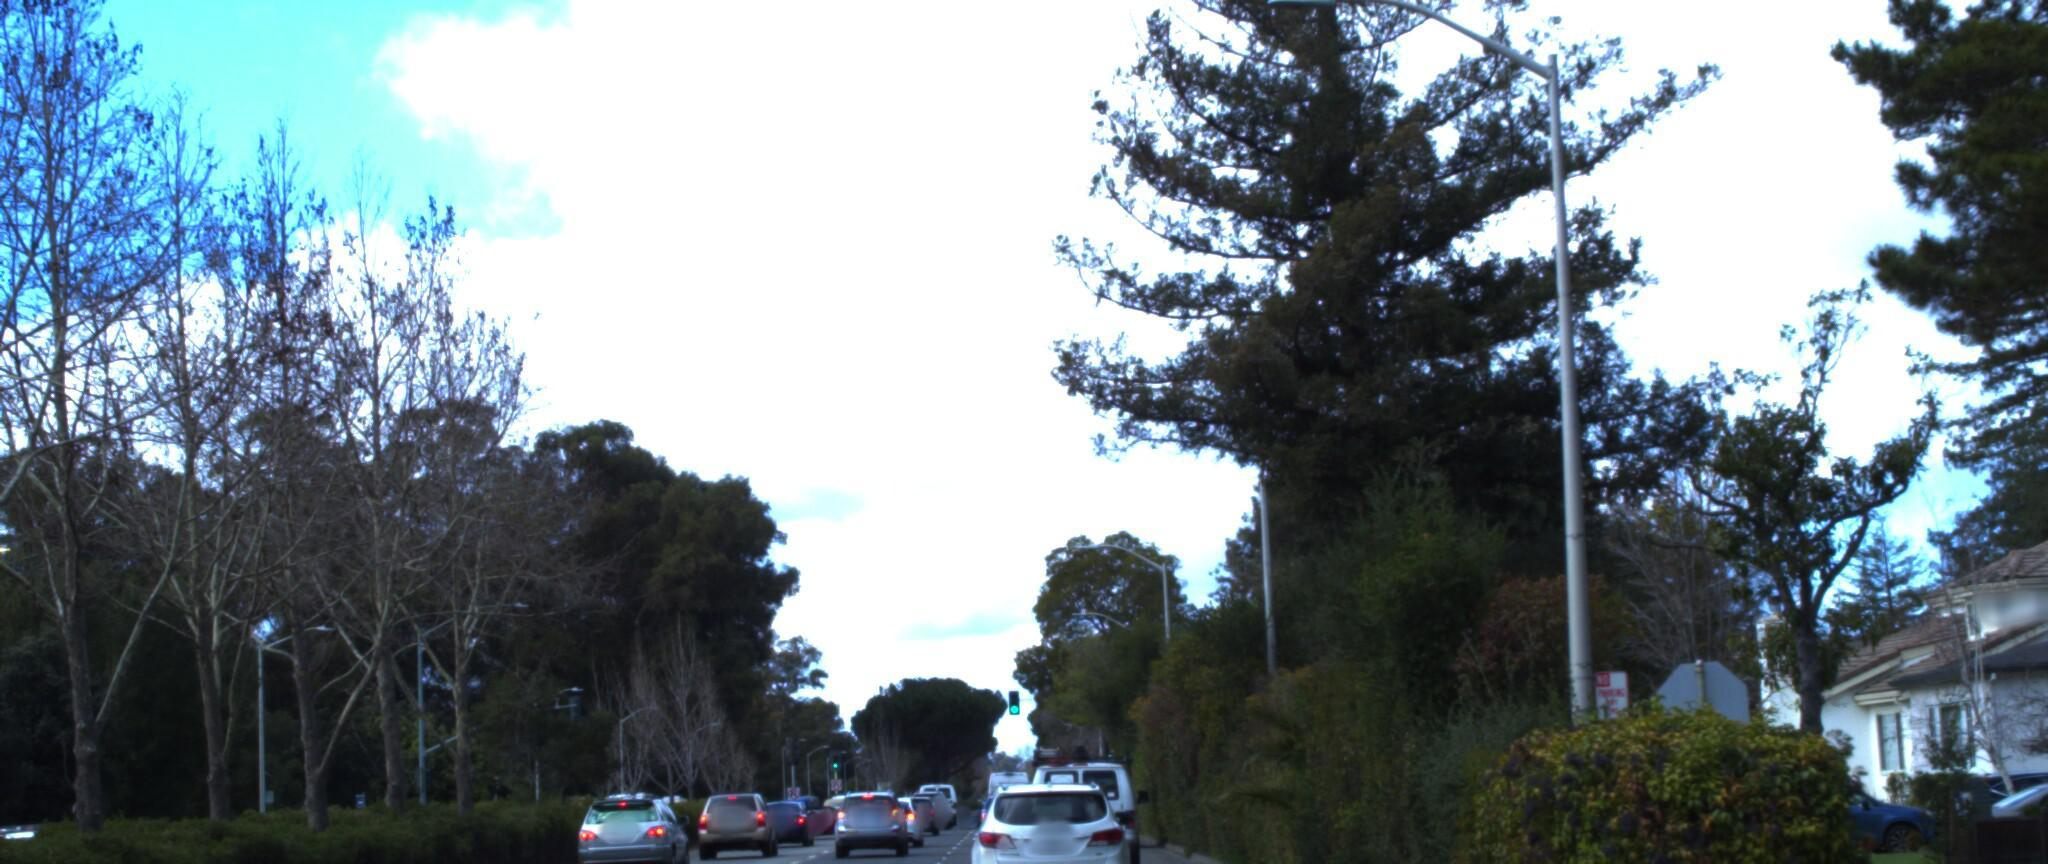car: (1714, 747, 1968, 842), (967, 753, 1145, 864), (1029, 717, 1166, 857), (576, 766, 703, 864), (835, 762, 923, 838), (696, 769, 789, 841), (0, 854, 184, 864)
